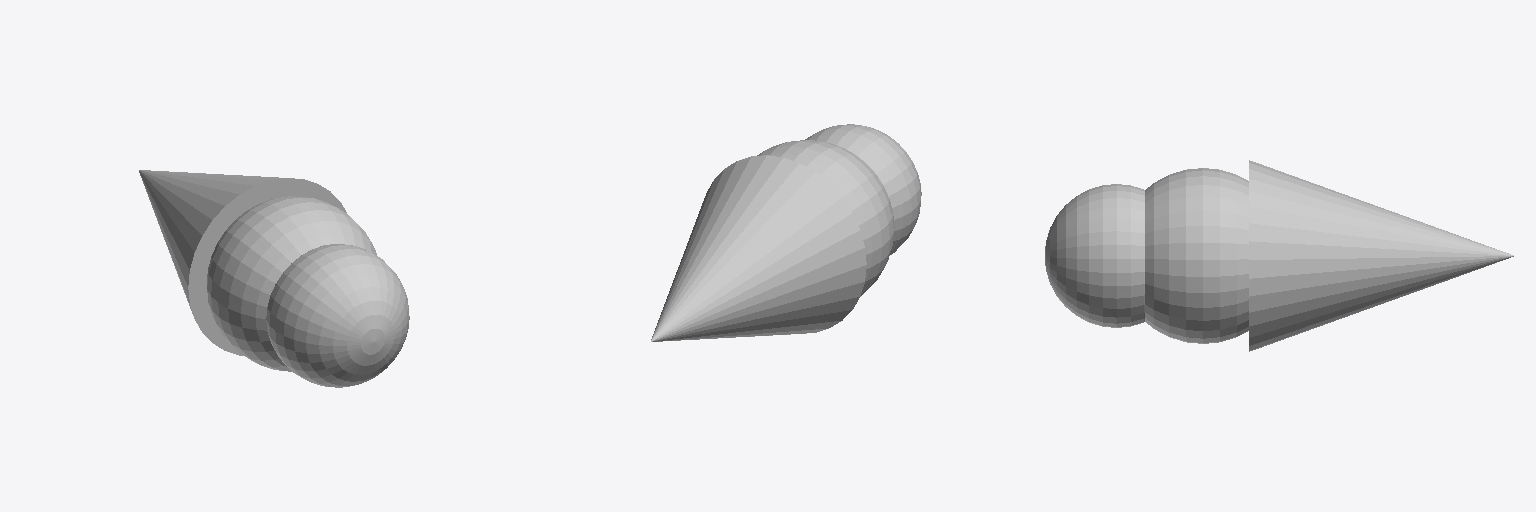
Rendered from icecream.obj.
The picture shows the model from 3 angles: view 1: azimuth 30°, elevation 25°; view 2: azimuth 150°, elevation 25°; view 3: azimuth 270°, elevation 25°; orthographic projection.
Parts seen in each view (by area): view 1: obj_0; view 2: obj_0; view 3: obj_0.
Boxes of the visible parts, <box> form: obj_0: <box>139,170,409,387</box>; obj_0: <box>651,124,921,341</box>; obj_0: <box>1045,160,1513,351</box>.
Bounding box in the file's own units: 12 × 12 × 29.4.